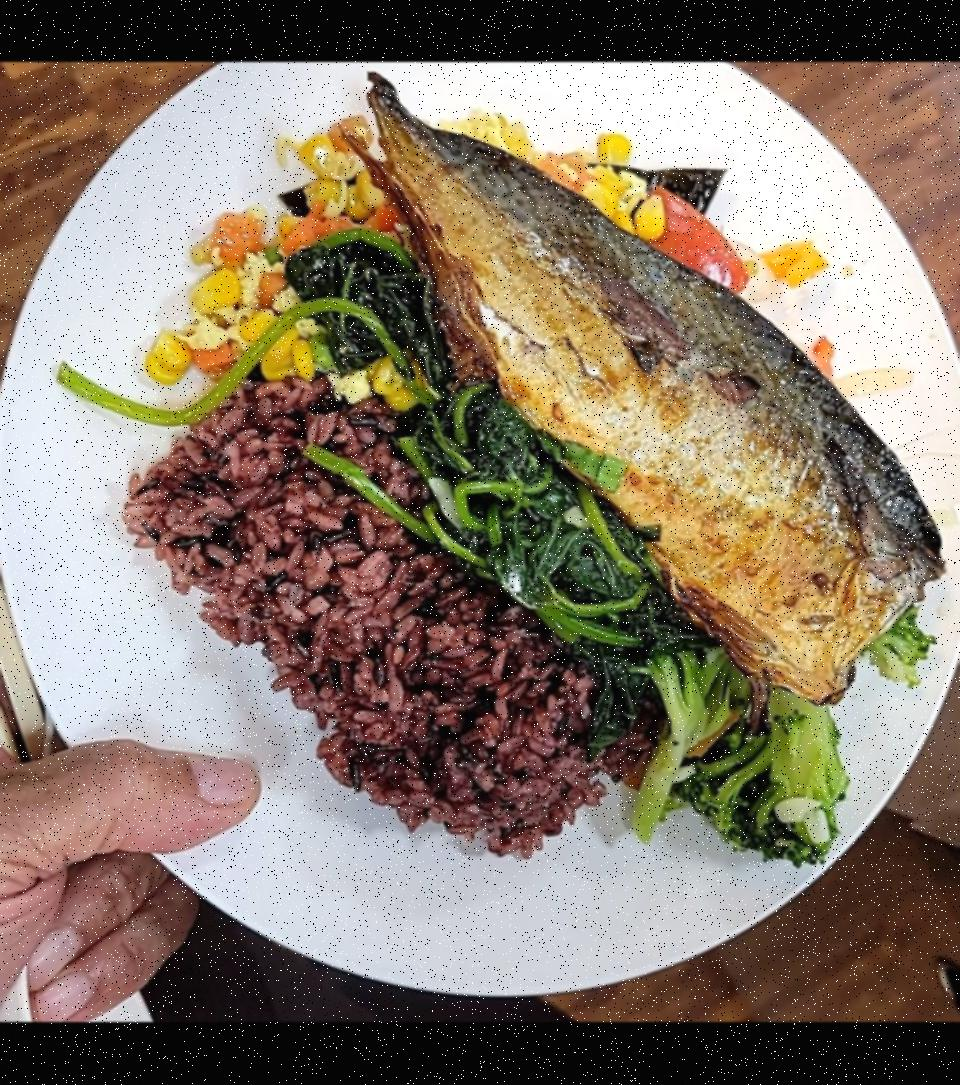big fried chicken leg: (0, 70, 960, 1013)
braised fish: (112, 352, 630, 858)
braised fish fillet: (330, 268, 686, 686), (184, 123, 722, 380), (646, 646, 860, 850)
braised pork ribs: (331, 88, 960, 688)
